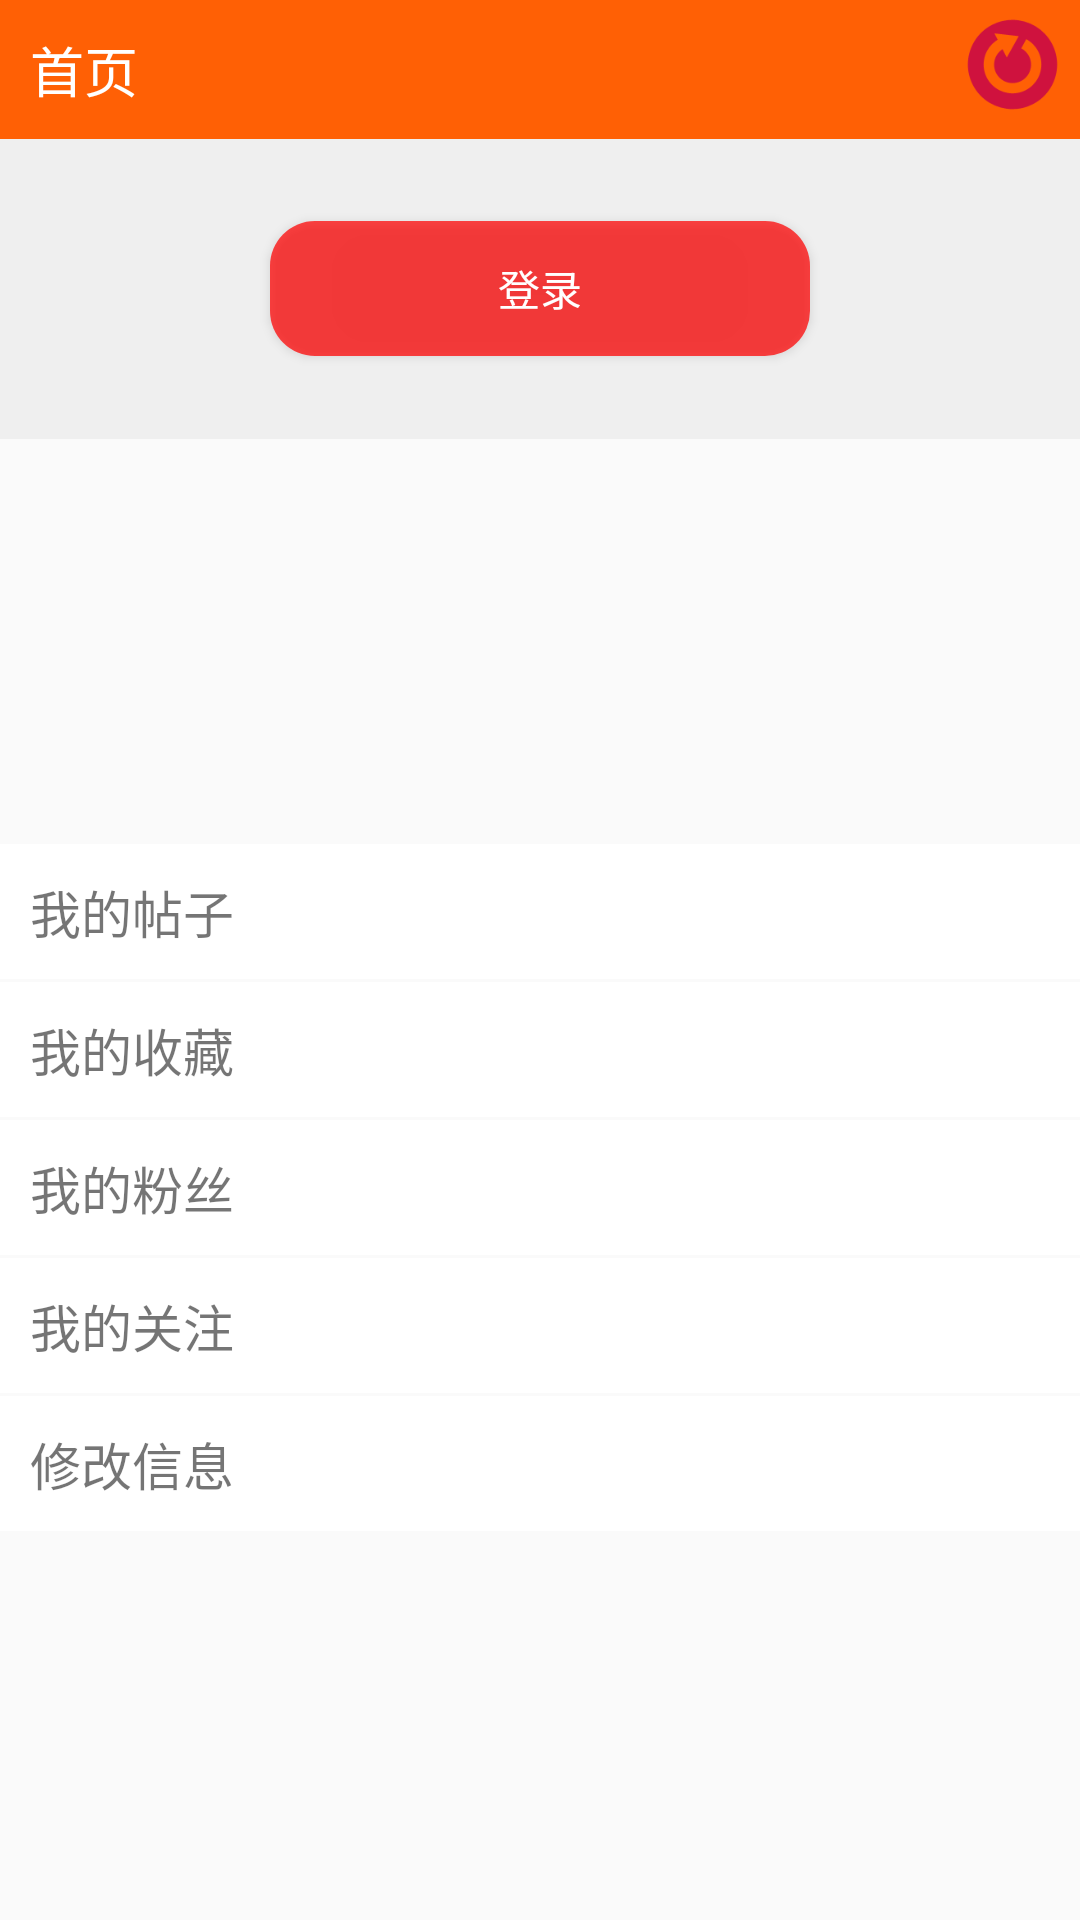

Screen size 1080px x 1920px. Icon name, then its center in pixels as (x=x, y=y):
refresh: (x=1012, y=64)
